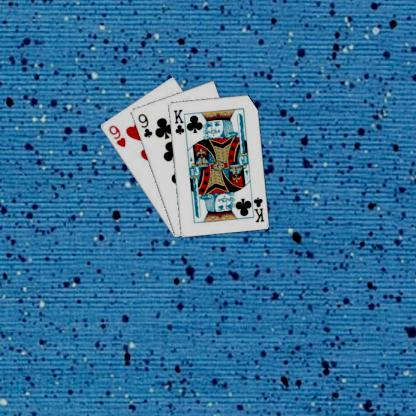9C: (135, 111, 153, 139)
9H: (106, 122, 127, 149)
KC: (248, 192, 265, 223), (171, 107, 188, 137)
